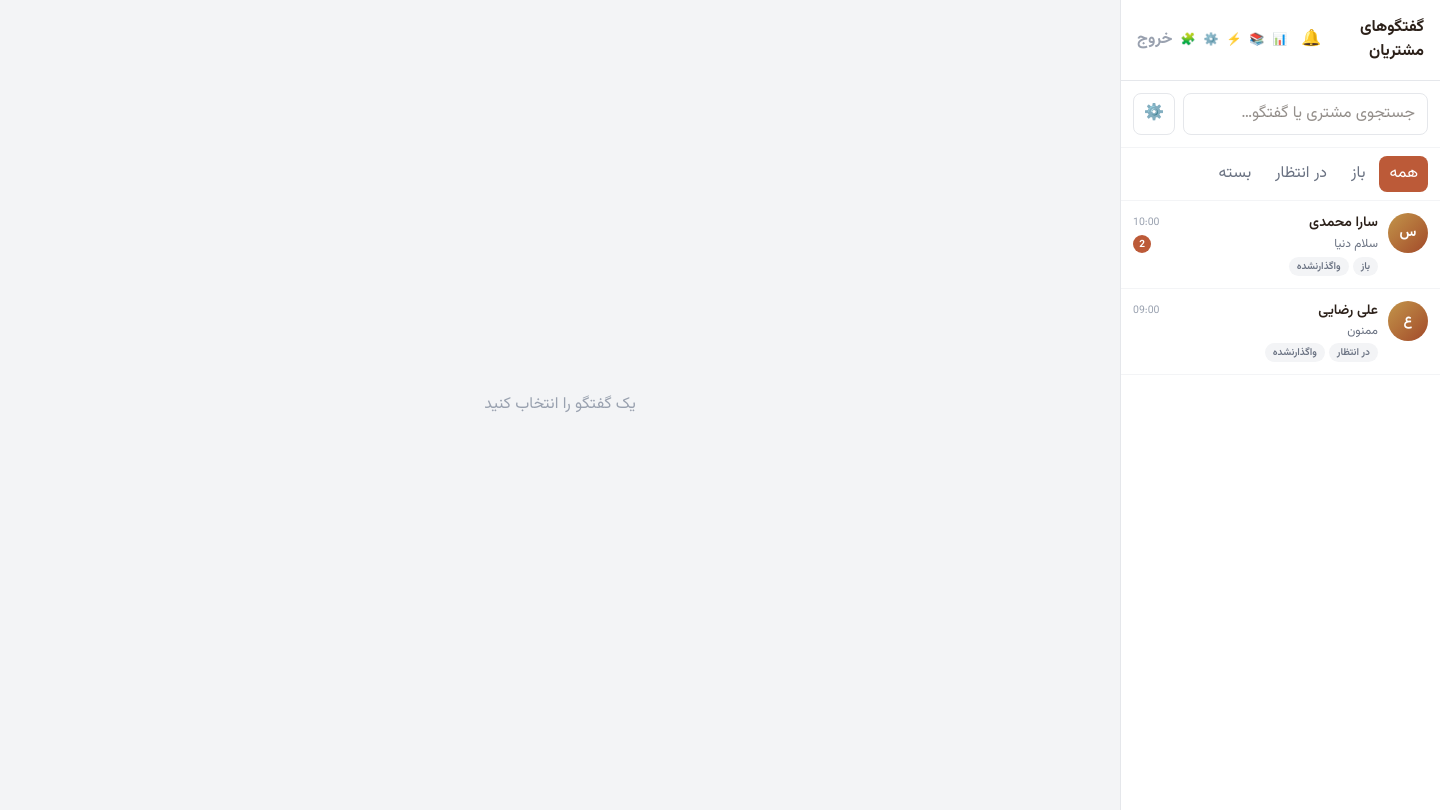
Scenario: Operator dashboard — customer conversations page › adds an operator note and renders it in the note list
Click the text "سارا محمدی".
click(1344, 223)  # box [1309,213,1378,233]
(page scrolled)
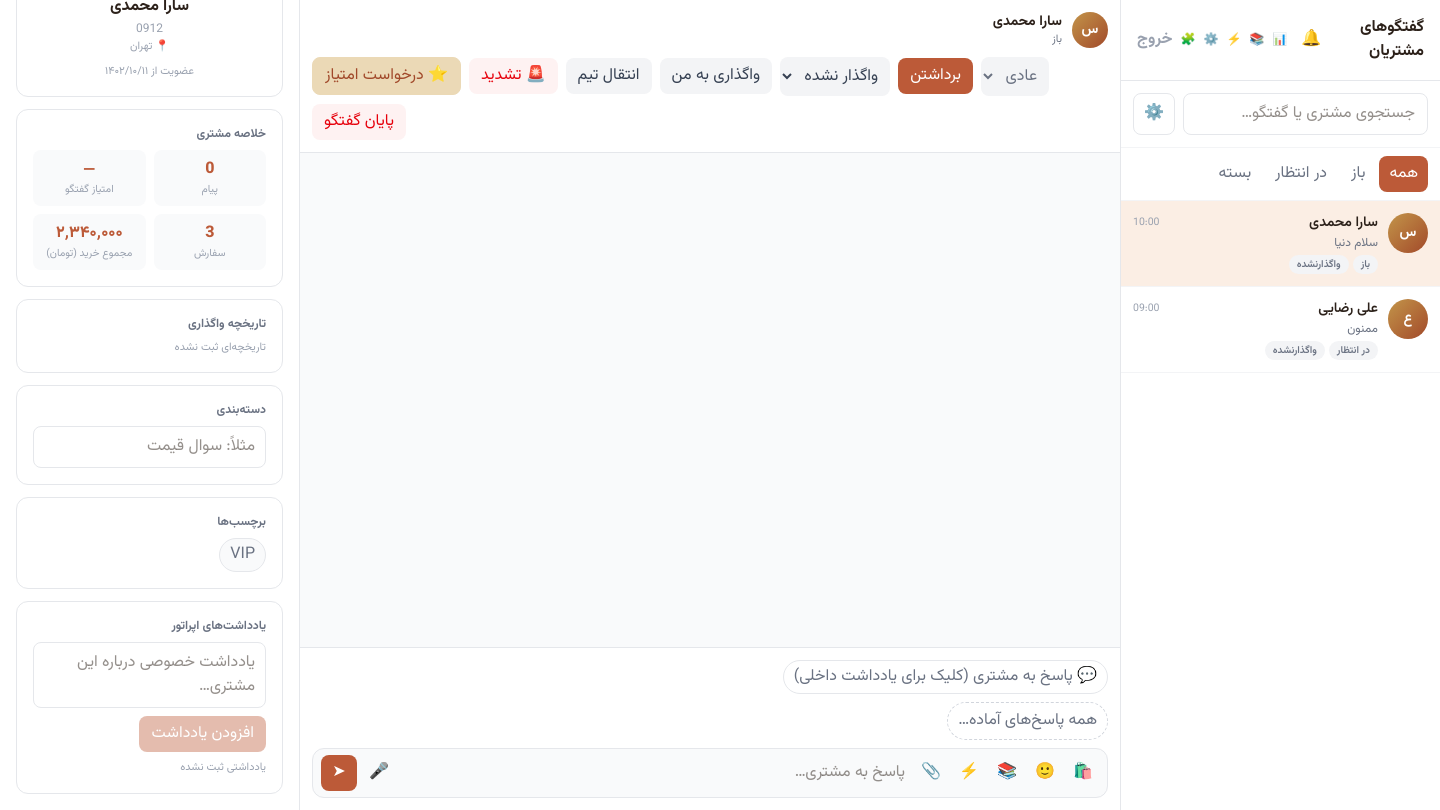
Type "مشتری علاقه‌مند به رنگ گرم است" into the text box with placeholder "یادداشت خصوصی درباره این مشتری…".
click(150, 675); type("مشتری علاقه‌مند به رنگ گرم است")  # box [33,642,266,708]
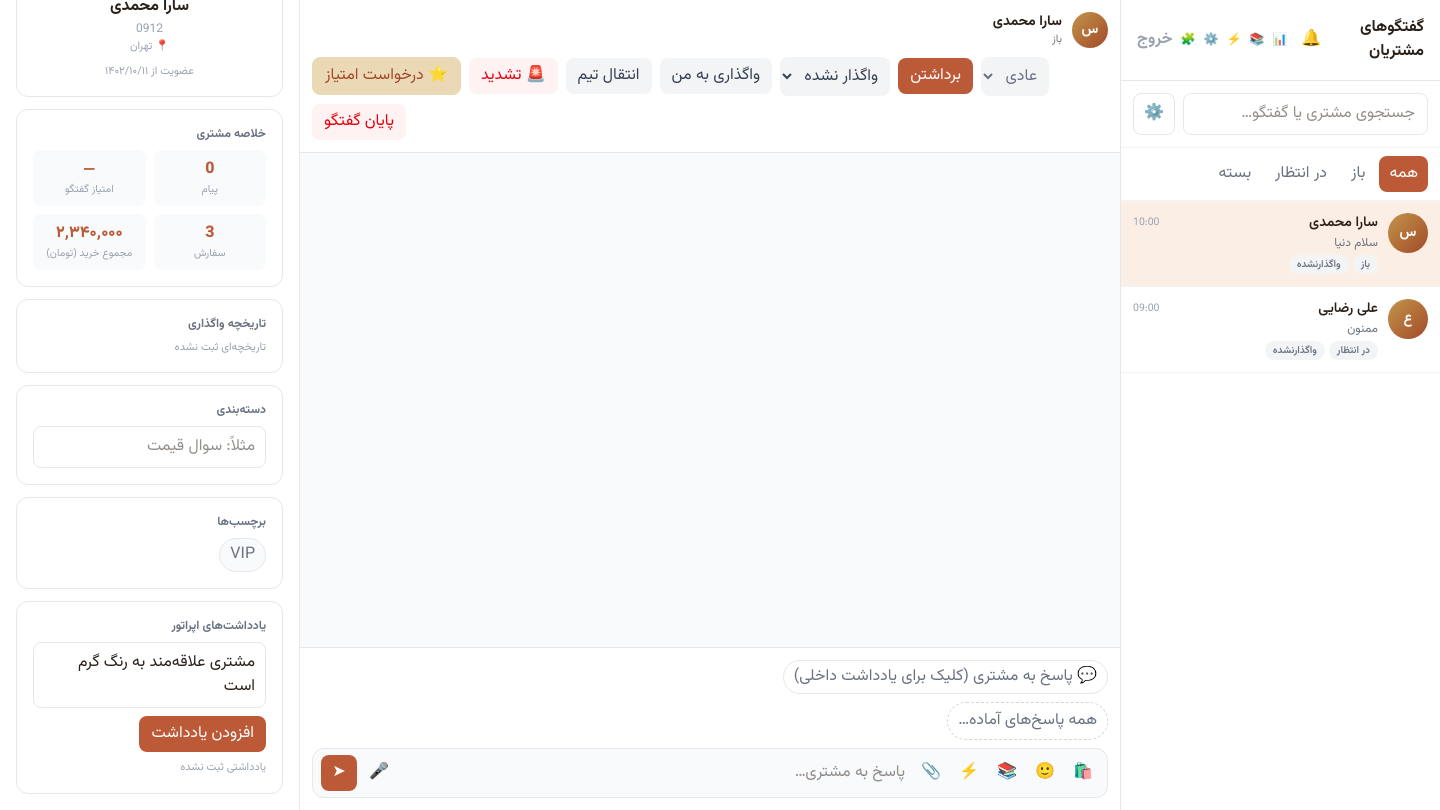
Click the button "افزودن یادداشت".
click(203, 734)  # box [140,716,266,752]
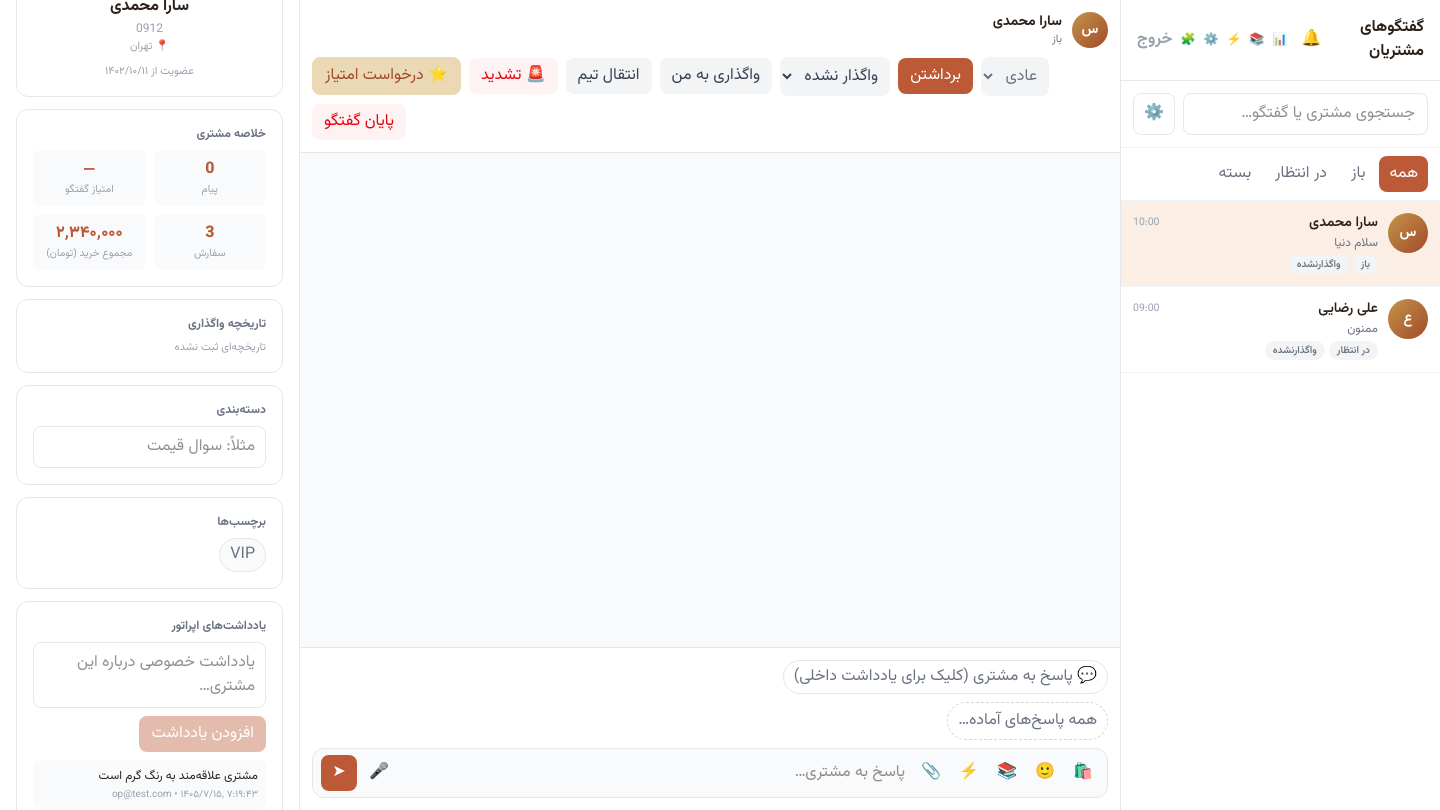
Expected: the text "مشتری علاقه‌مند به رنگ گرم است" is shown, [99,767,258,785]
